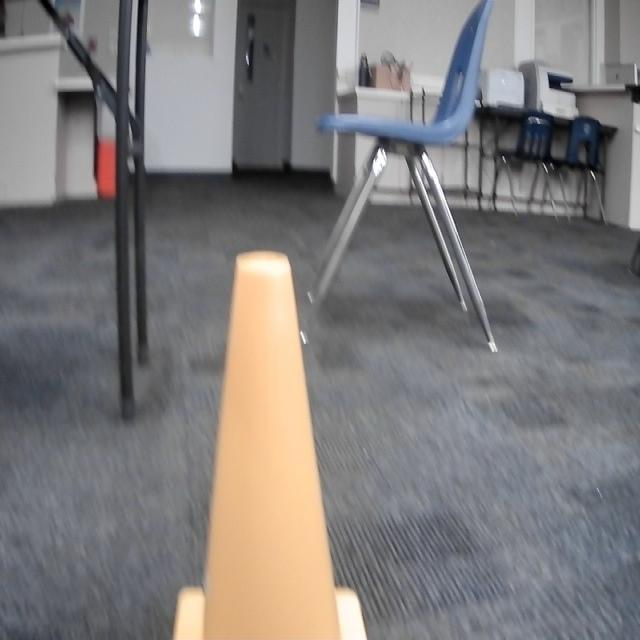cone: (173, 250, 368, 640)
